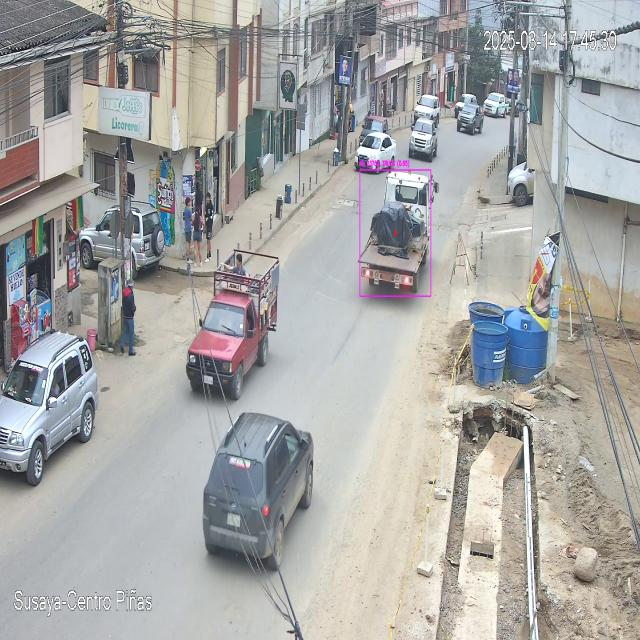CMT: (186, 257, 280, 401)
SUV: (200, 413, 316, 570)
